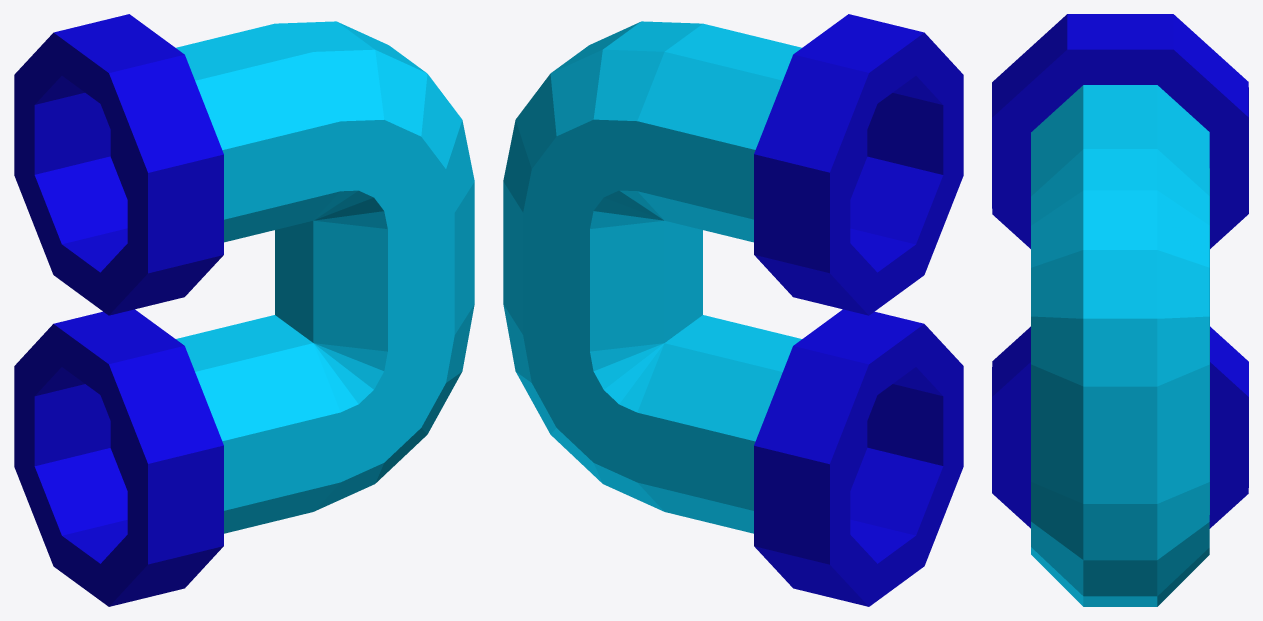
Rendered from pipes 8.0.fbx.
3 renders of one model, left to right at view 1: azimuth 30°, elevation 25°; view 2: azimuth 150°, elevation 25°; view 3: azimuth 270°, elevation 25°, orthographic. The views are drawn at different scales.
Visible parts, largest first — view 1: pipe 10; view 2: pipe 10; view 3: pipe 10.
Part boxes in pixels (x1,y1,x2,y2): pipe 10: [14, 14, 474, 606]; pipe 10: [503, 14, 963, 606]; pipe 10: [992, 14, 1248, 606].
Bounding box in the file's own units: 55.31 × 75.39 × 34.27.
